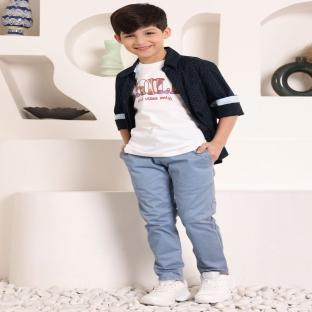Human: (111, 3, 243, 304)
